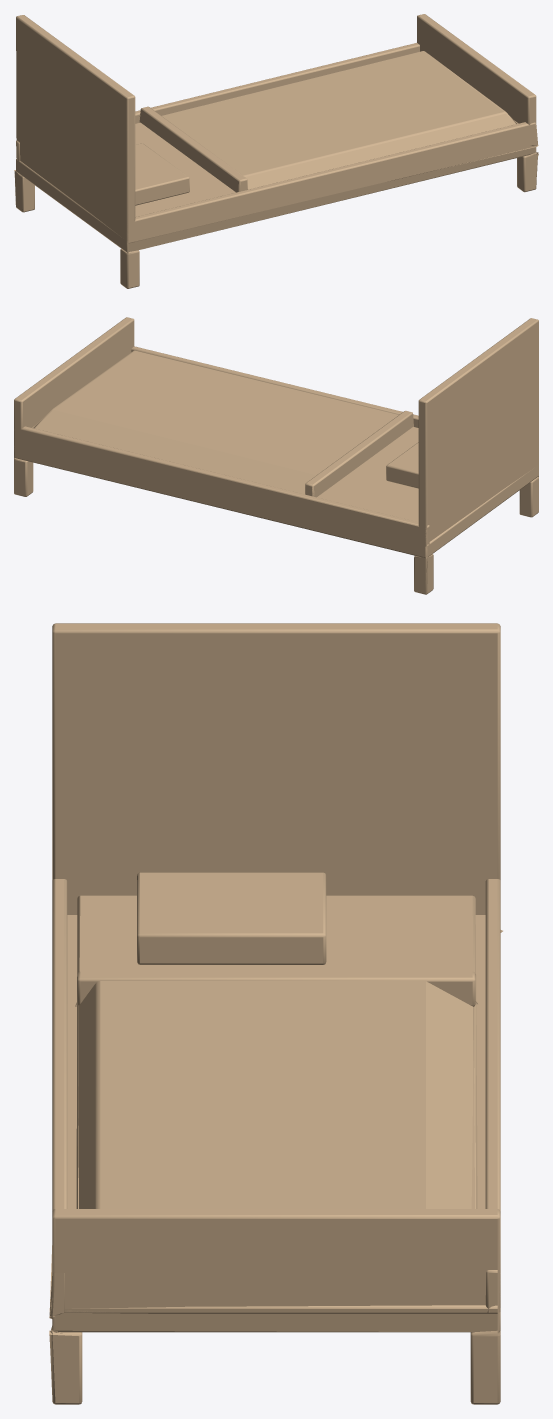
File: GiuongNhim_ChieuChan.glb
3 renders of one model, top to bottom at view 1: azimuth 30°, elevation 25°; view 2: azimuth 150°, elevation 25°; view 3: azimuth 270°, elevation 25°, orthographic. The views are drawn at different scales.
Parts seen in each view (by area): view 1: GiuongNhim_ChieuChan; view 2: GiuongNhim_ChieuChan; view 3: GiuongNhim_ChieuChan.
Part boxes in pixels (bbox=[...]): GiuongNhim_ChieuChan: bbox=[14, 14, 538, 288]; GiuongNhim_ChieuChan: bbox=[14, 317, 538, 594]; GiuongNhim_ChieuChan: bbox=[49, 623, 502, 1404].
Size of the model in its own units: 1.91 by 0.85 by 0.912.
